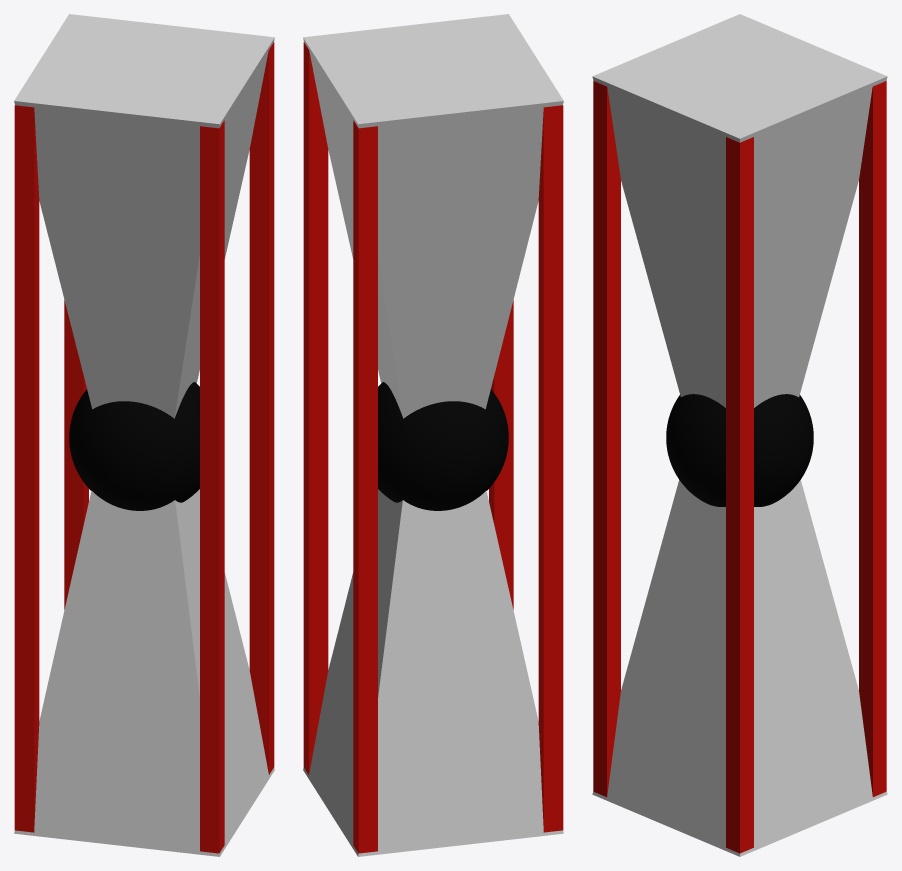
File: arcology.glb
The picture shows the model from 3 angles, left to right: view 1: azimuth 30°, elevation 25°; view 2: azimuth 150°, elevation 25°; view 3: azimuth 270°, elevation 25°; orthographic projection. The views are drawn at different scales.
Parts seen in each view (by area): view 1: Cone.001, Cone, Cube.001, Cube.004, Cube, Sphere, Cube.002; view 2: Cone.001, Cone, Cube.001, Cube.002, Cube, Sphere, Cube.004; view 3: Cone.001, Cone, Cube, Cube.002, Cube.004, Sphere.
Boxes of the visible parts, x1,y1,x2,y2 form: Cone.001: (14,14,274,418); Cone: (14,489,274,856); Cube.001: (14,105,39,832); Cube.004: (200,120,224,853); Cube: (249,42,274,774); Sphere: (69,382,199,510); Cube.002: (64,300,88,609); Cone.001: (303,14,563,418); Cone: (303,489,563,856); Cube.001: (538,105,563,832); Cube.002: (353,120,377,853); Cube: (303,42,328,774); Sphere: (378,382,508,510); Cube.004: (489,300,513,609); Cone.001: (592,14,887,407); Cone: (592,480,887,856); Cube: (726,137,753,853); Cube.002: (859,81,886,796); Cube.004: (593,81,620,796); Sphere: (666,394,813,506).
Size of the model in its own units: 6 by 16.1 by 6.
